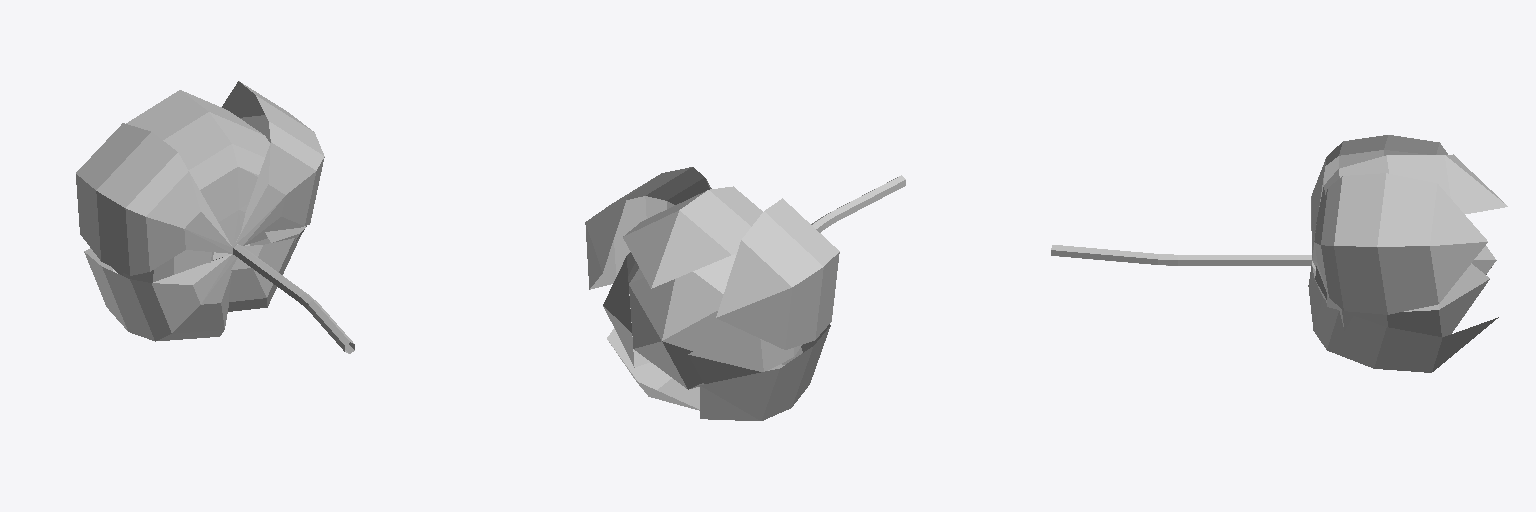
File: Lotus.obj
3 views of the same model, side by side, from view 1: azimuth 30°, elevation 25°; view 2: azimuth 150°, elevation 25°; view 3: azimuth 270°, elevation 25° (orthographic).
Visible parts, largest first — view 1: Circle; view 2: Circle; view 3: Circle.
Boxes of the visible parts, <box> form: Circle: <box>76,81,354,353</box>; Circle: <box>585,167,905,420</box>; Circle: <box>1051,135,1507,372</box>.
Size of the model in its own units: 0.892 by 0.8603 by 1.64.